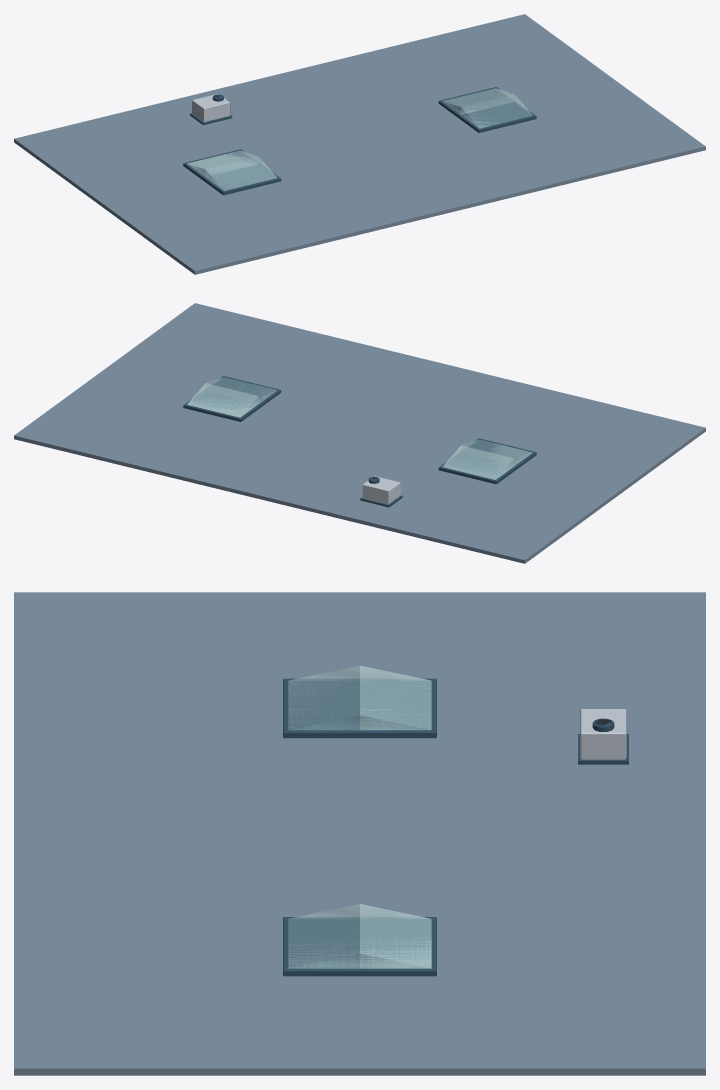
File: CM_Shell_Roof_MiniMart.fbx
3 renders of one model, top to bottom at view 1: azimuth 30°, elevation 25°; view 2: azimuth 150°, elevation 25°; view 3: azimuth 270°, elevation 25°, orthographic. The views are drawn at different scales.
Parts seen in each view (by area): view 1: Roof, Glass; view 2: Roof, Glass; view 3: Roof, Glass.
Boxes of the visible parts, bbox=[...] form: Roof: bbox=[14, 14, 705, 274]; Glass: bbox=[187, 88, 532, 190]; Roof: bbox=[14, 303, 705, 563]; Glass: bbox=[187, 377, 532, 479]; Roof: bbox=[14, 592, 705, 1075]; Glass: bbox=[288, 665, 431, 968].
Bounding box in the file's own units: 88 × 54 × 3.6.
2 materials, 2 textured.
